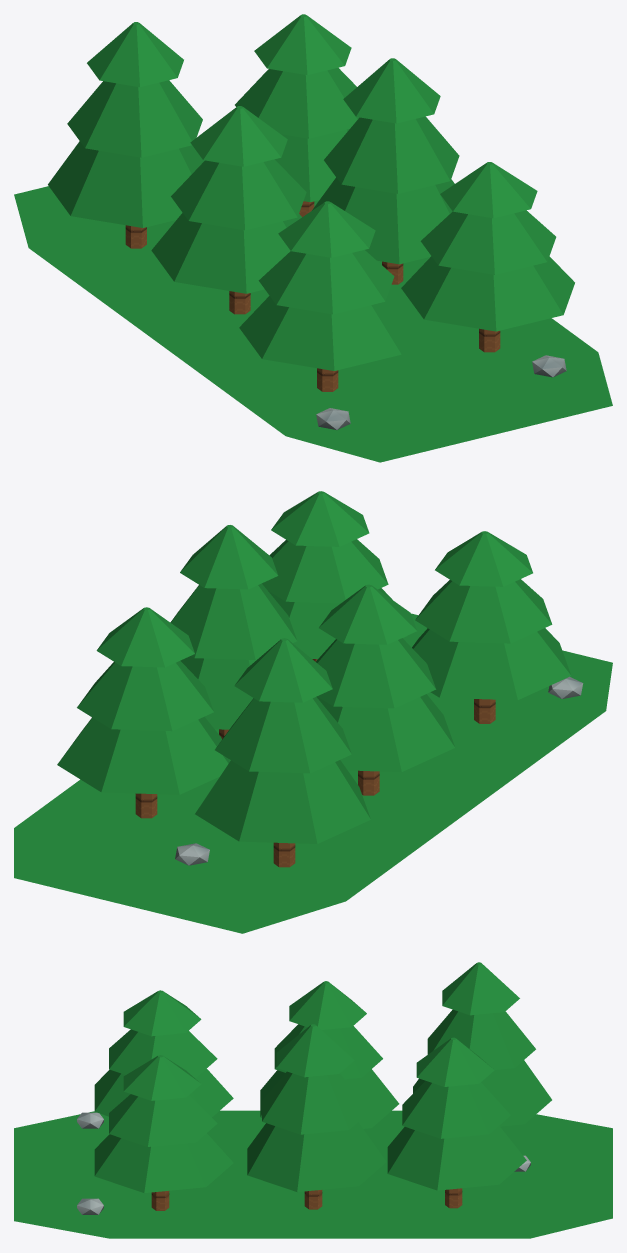
File: forest-island-2x4.glb
3 views of the same model, one above another, from view 1: azimuth 30°, elevation 25°; view 2: azimuth 150°, elevation 25°; view 3: azimuth 270°, elevation 25° (orthographic). The views are drawn at different scales.
Parts seen in each view (by area): view 1: forest-island-2x4; view 2: forest-island-2x4; view 3: forest-island-2x4.
Part boxes in pixels (x1,y1,x2,y2): forest-island-2x4: (14, 14, 612, 462); forest-island-2x4: (14, 491, 612, 933); forest-island-2x4: (14, 962, 612, 1238).
Bounding box in the file's own units: 1.9 × 1.26 × 3.76.
1 material, 1 textured.
